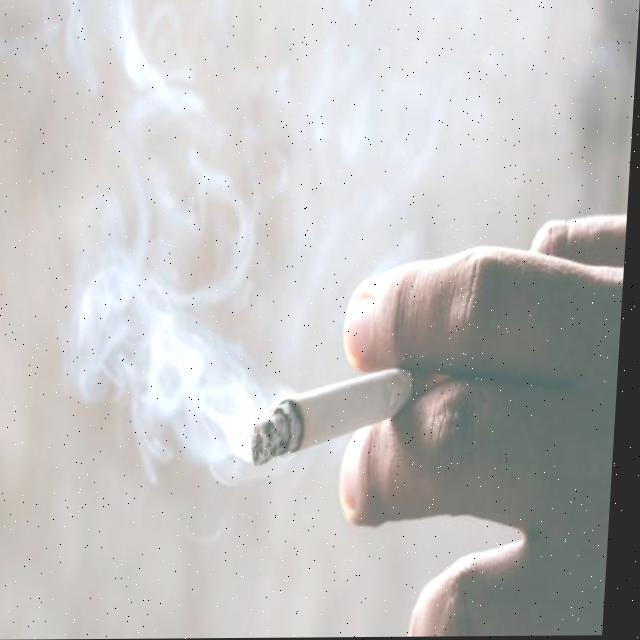cigarette: (255, 365, 450, 466)
